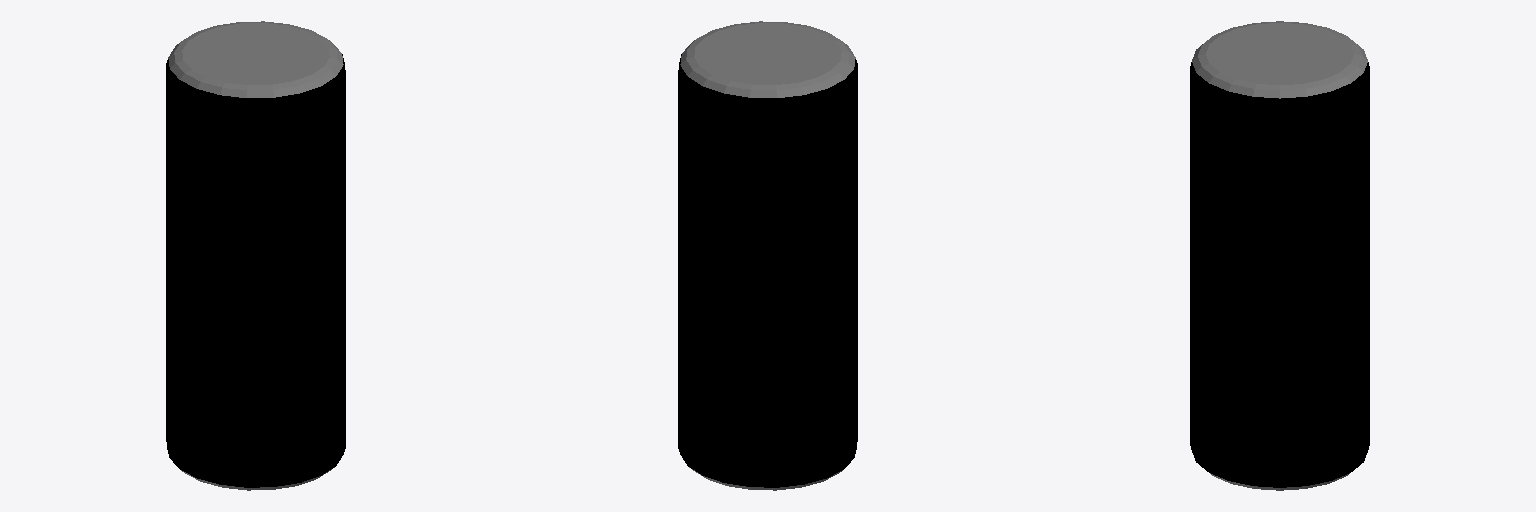
Rendered from can.obj.
The picture shows the model from 3 angles: view 1: azimuth 30°, elevation 25°; view 2: azimuth 150°, elevation 25°; view 3: azimuth 270°, elevation 25°; orthographic projection.
Bounding box in the file's own units: 4.43 × 10.94 × 4.43.